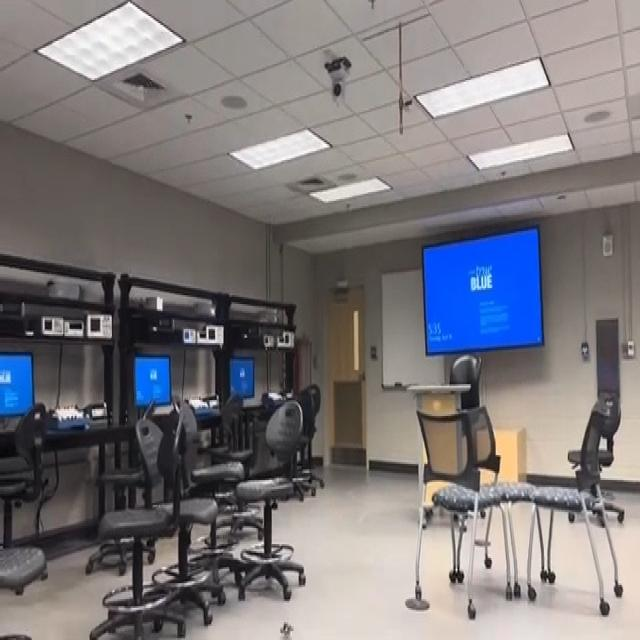drone: (274, 617, 302, 640)
